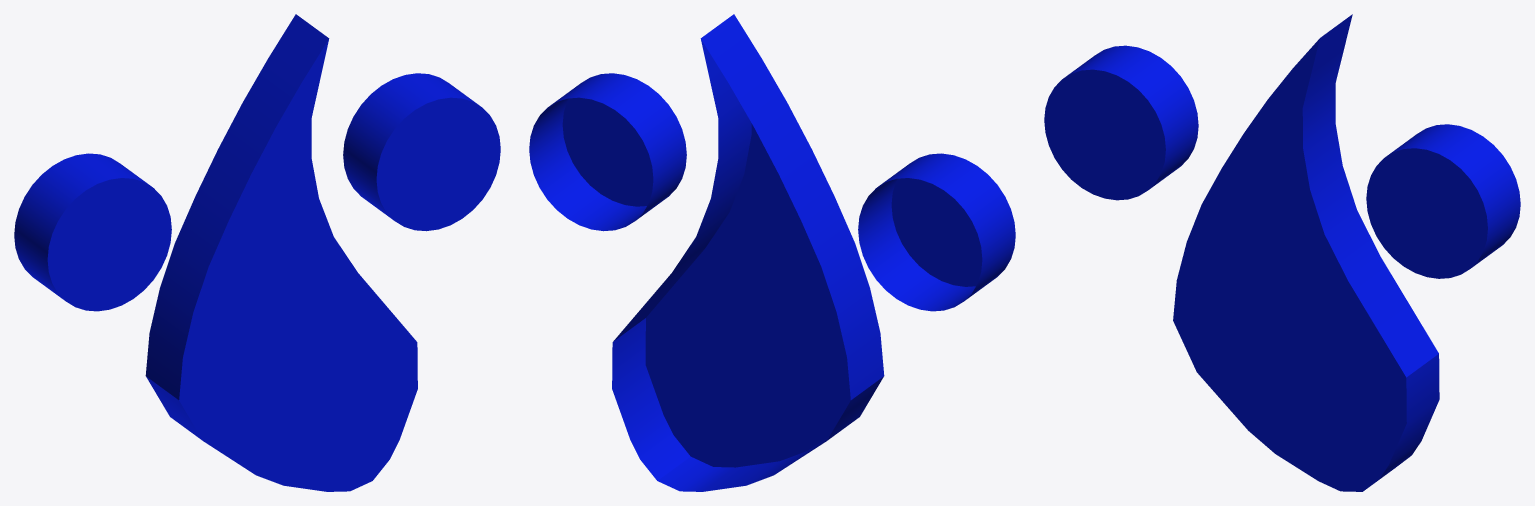
Rendered from LakeShrineIcon.fbx.
The picture shows the model from 3 angles, left to right: view 1: azimuth 30°, elevation 25°; view 2: azimuth 150°, elevation 25°; view 3: azimuth 330°, elevation 25°; orthographic projection. The views are drawn at different scales.
Parts seen in each view (by area): view 1: LakeShrineIcon; view 2: LakeShrineIcon; view 3: LakeShrineIcon.
Part boxes in pixels (x1,y1,x2,y2): LakeShrineIcon: (14,14,500,491); LakeShrineIcon: (529,14,1015,491); LakeShrineIcon: (1044,14,1520,491).
Size of the model in its own units: 2.7 by 2.61 by 0.3453.
